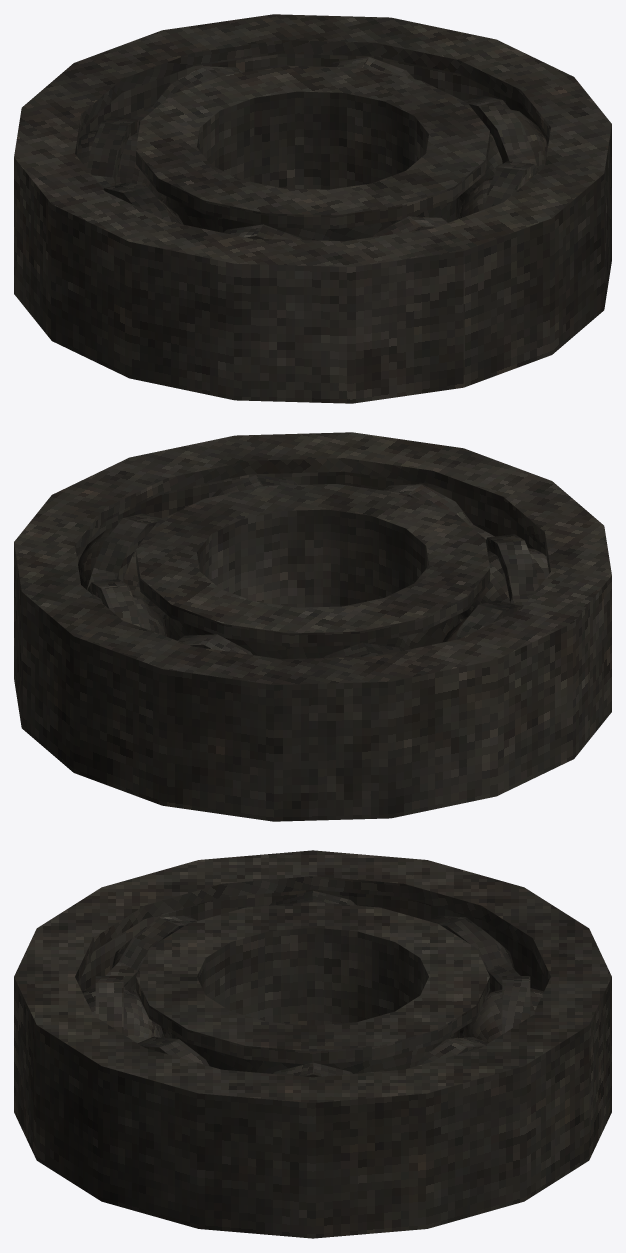
The model's file is ball_bearing_mx_1_1_large.glb.
3 views of the same model, one above another, from view 1: azimuth 30°, elevation 25°; view 2: azimuth 150°, elevation 25°; view 3: azimuth 270°, elevation 25° (orthographic).
Visible parts, largest first — view 1: ball_bearing_mx_1_1_large; view 2: ball_bearing_mx_1_1_large; view 3: ball_bearing_mx_1_1_large.
Part boxes in pixels (box(x1,y1,x2,y2)): ball_bearing_mx_1_1_large: box(14, 14, 611, 403); ball_bearing_mx_1_1_large: box(14, 432, 611, 821); ball_bearing_mx_1_1_large: box(14, 850, 611, 1238).
Size of the model in its own units: 0.2 by 0.05 by 0.2.
1 material, 1 textured.
